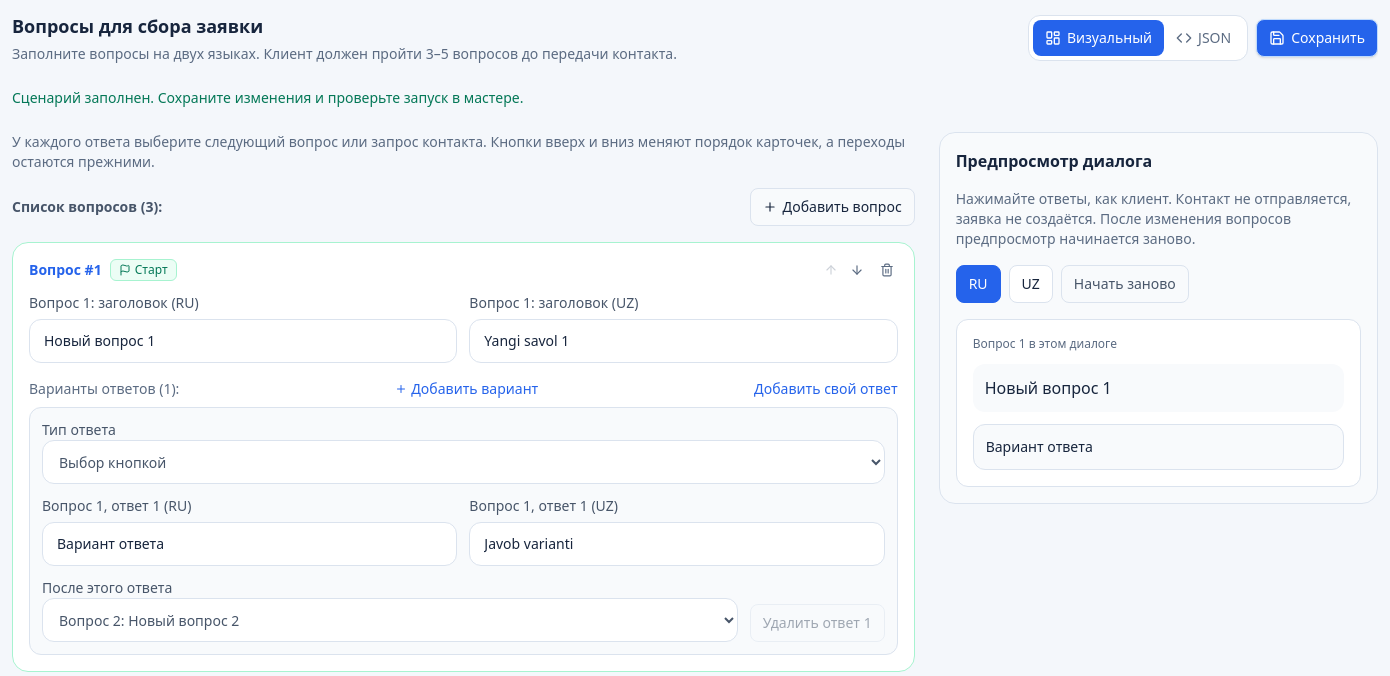
Test: Настройка опросника › можно превратить обычную кнопку в свой ответ и обратно
This screenshot has width=1390, height=676.
Select "Свой ответ — ввод текста" in the dropdown named "Вопрос 1, ответ 1: тип ответа" at (463, 462), box x1=42 y1=440 x2=885 y2=484
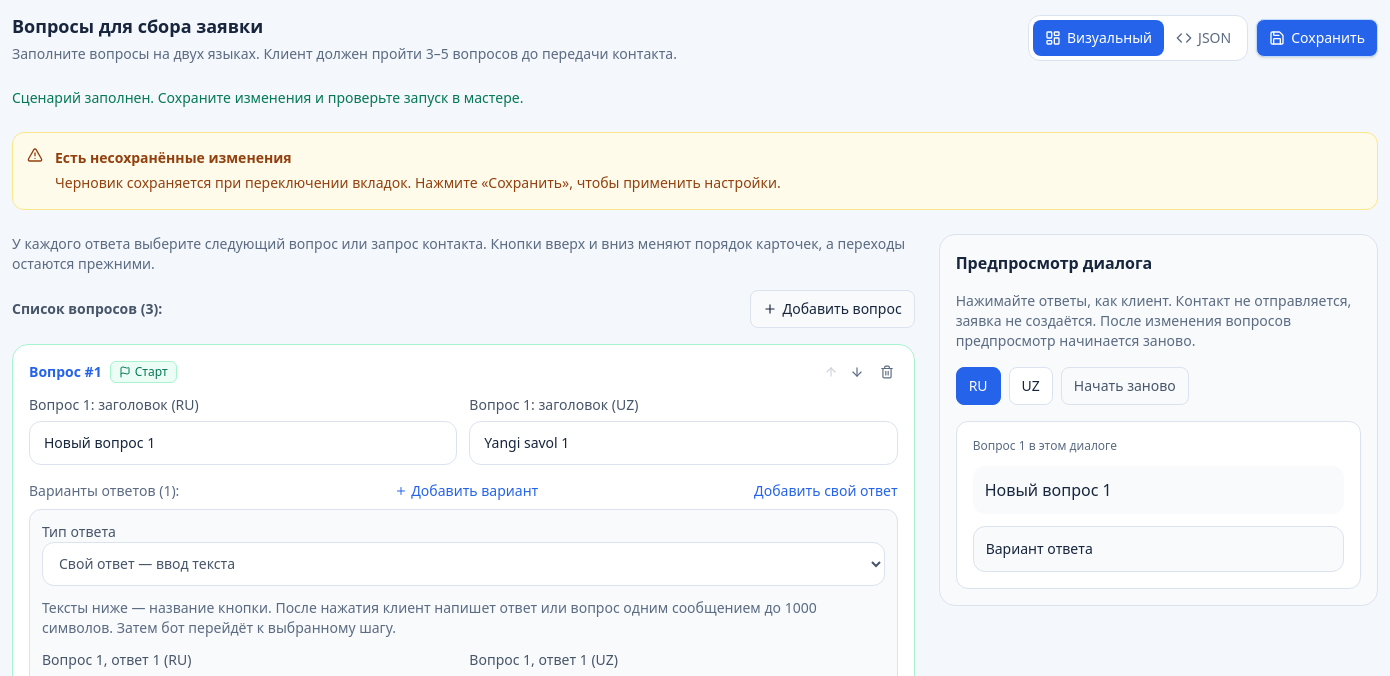
Click the button "Вариант ответа" at (1039, 548), box x1=973 y1=526 x2=1344 y2=572
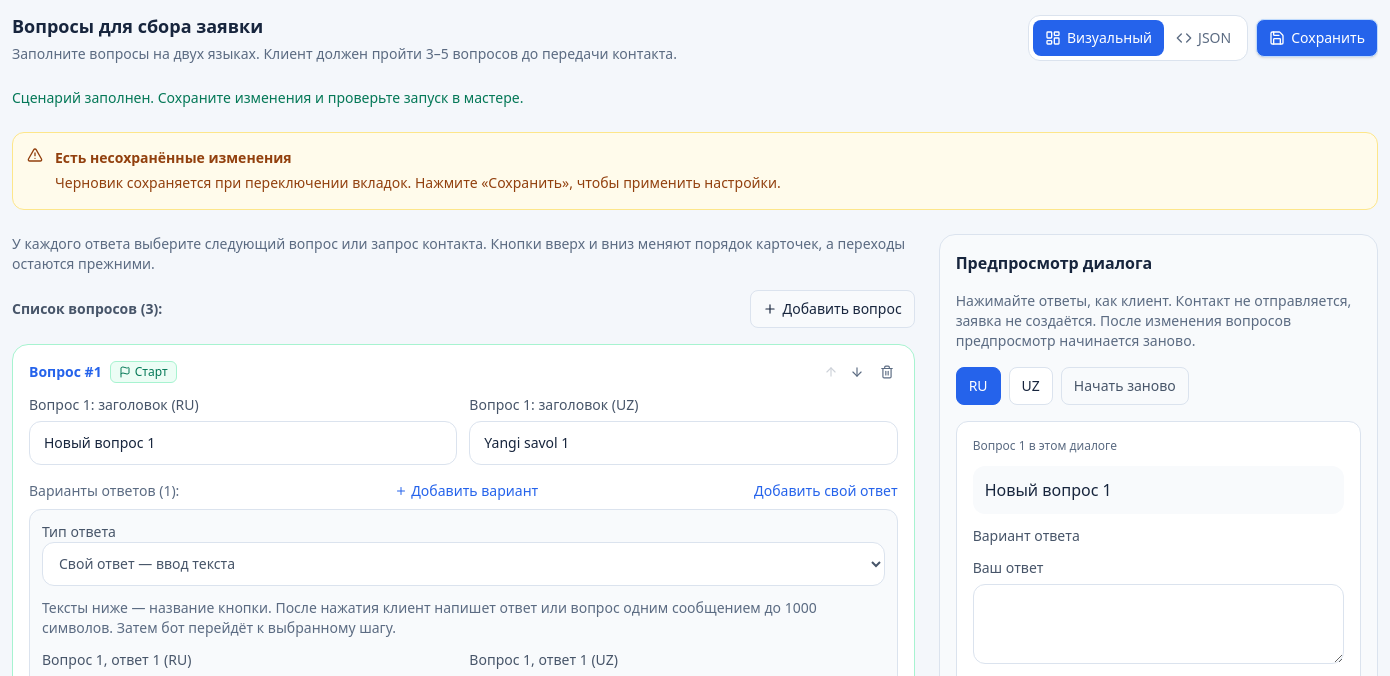
Now the text box labelled "Ваш ответ" is shown, box x1=973 y1=584 x2=1344 y2=664
Select "Выбор кнопкой" in the dropdown named "Вопрос 1, ответ 1: тип ответа" at (463, 564), box x1=42 y1=542 x2=885 y2=586
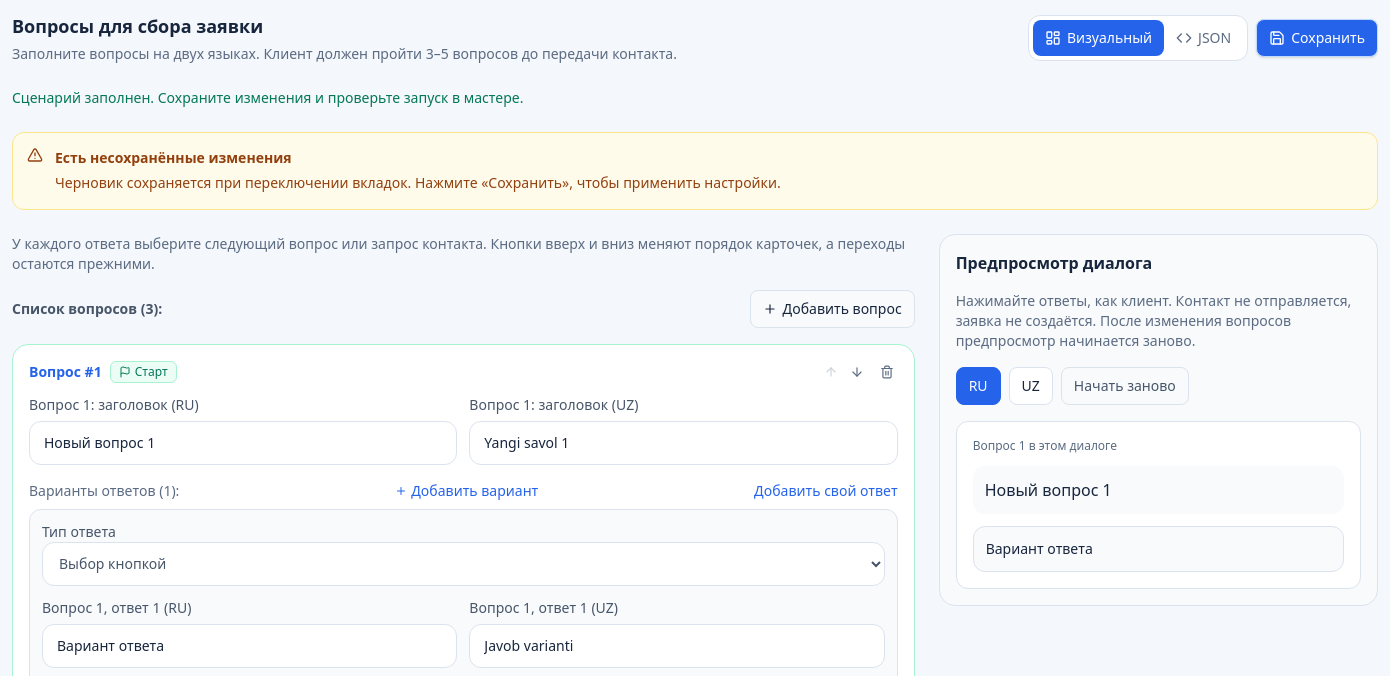
Click the button "Вариант ответа" at (1039, 548), box x1=973 y1=526 x2=1344 y2=572
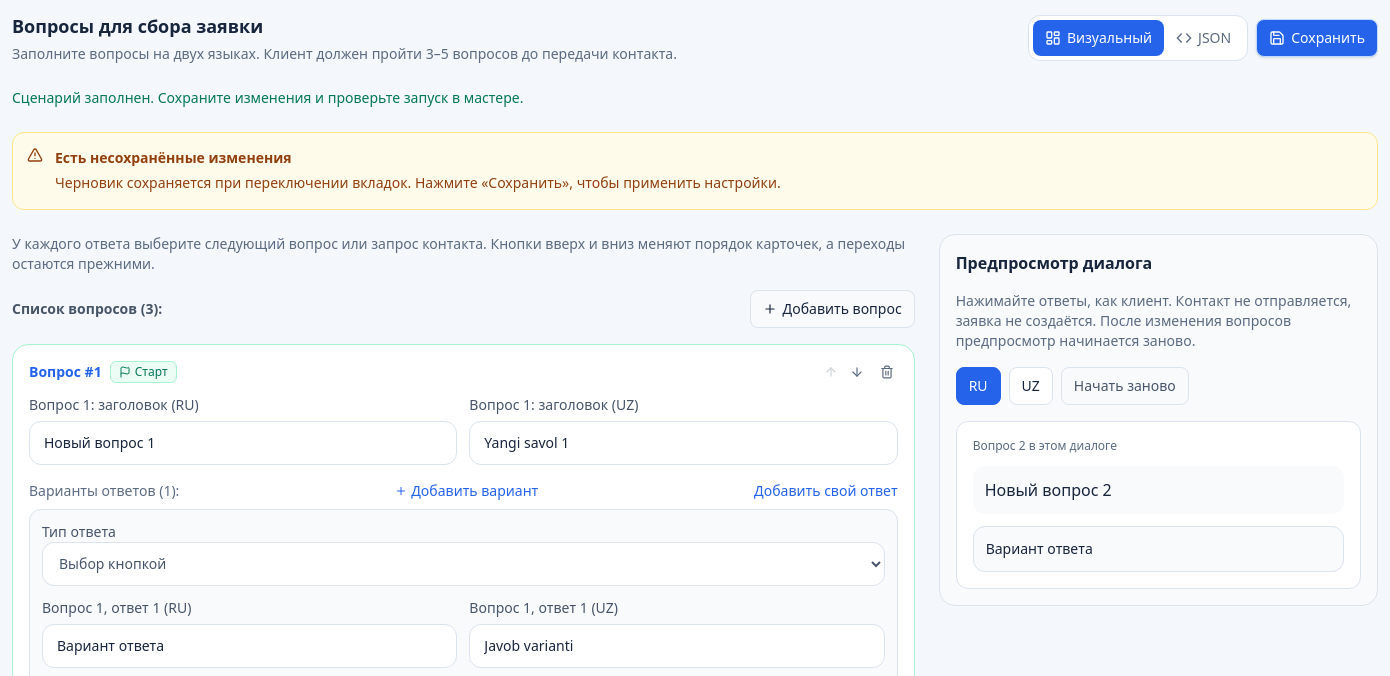
Now the text "Новый вопрос 2" is shown, box x1=973 y1=466 x2=1344 y2=514
